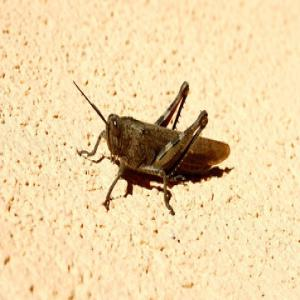locust: (86, 77, 240, 215)
